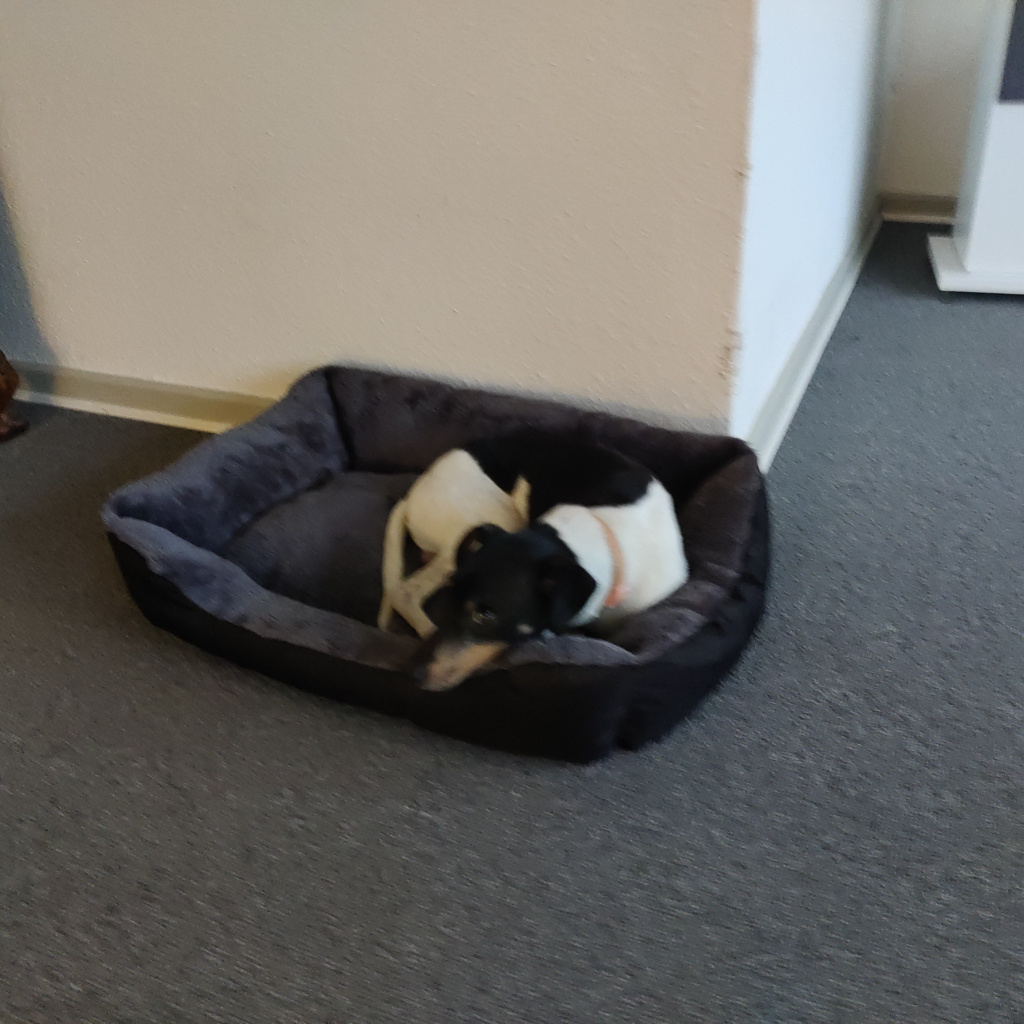Dog: (347, 400, 722, 714)
